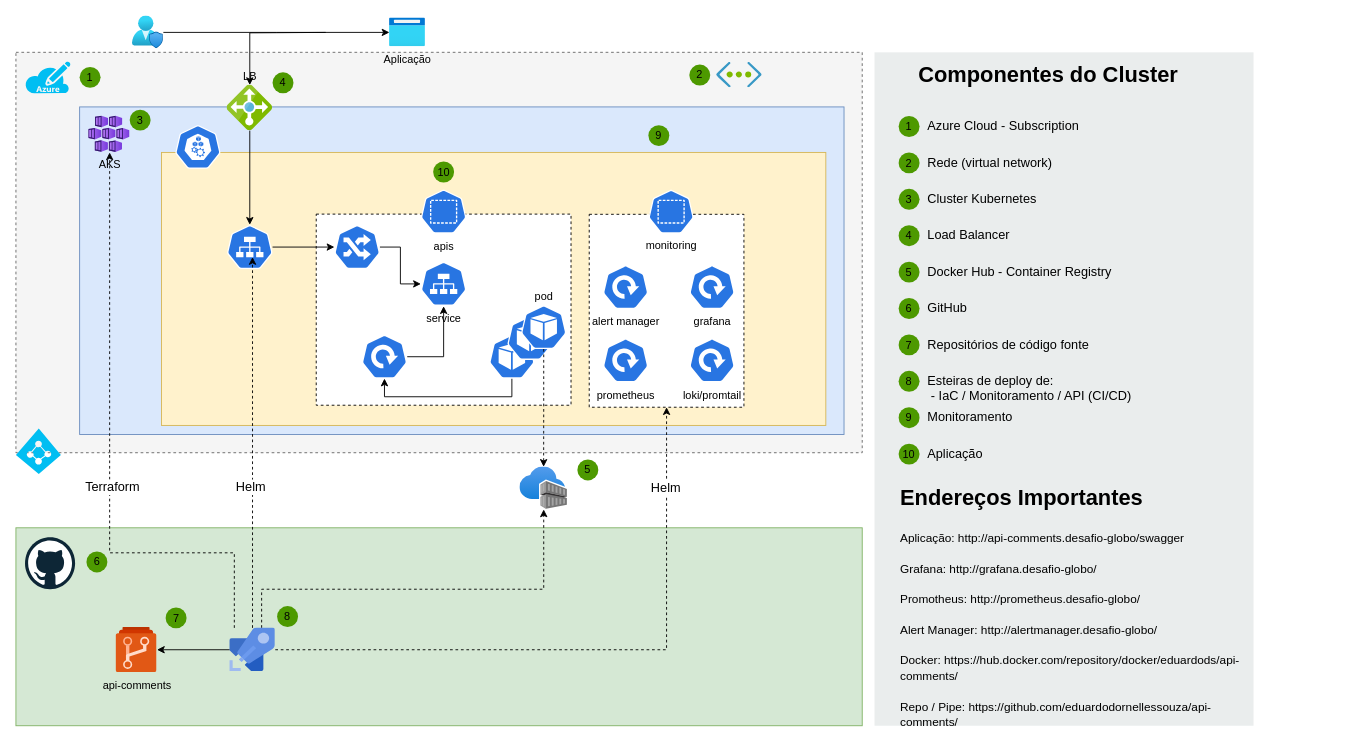
The diagram is 1351 pixels wide and 744 high, and some of its shapes have lost their labels. The centre of each missing label's shape, as x and y in pixels:
Container Registry: the point at 543,487
Control Place: the point at 197,146
deploy: the point at 384,356
EntraID SPN: the point at 37,451
ingress: the point at 357,246
nginx-ingress-controller: the point at 249,246
pipelines: the point at 252,649
User: the point at 147,31
vnet: the point at 739,74
